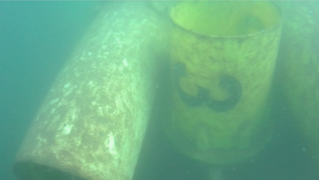3: (173, 61, 243, 113)
pipe: (11, 1, 177, 179), (157, 1, 283, 166), (270, 1, 318, 147)
